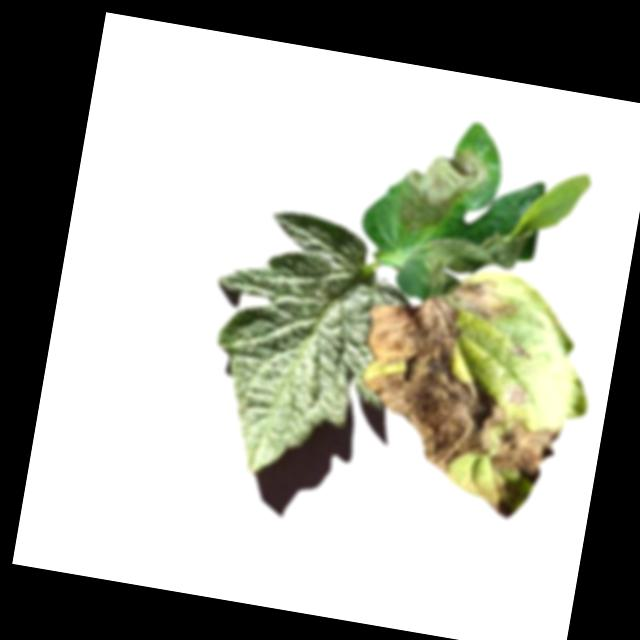Late_blight: (340, 258, 522, 482), (411, 211, 534, 310), (394, 138, 495, 242), (487, 413, 563, 487), (501, 380, 530, 411), (509, 342, 531, 366)
healthy: (189, 202, 417, 494)
